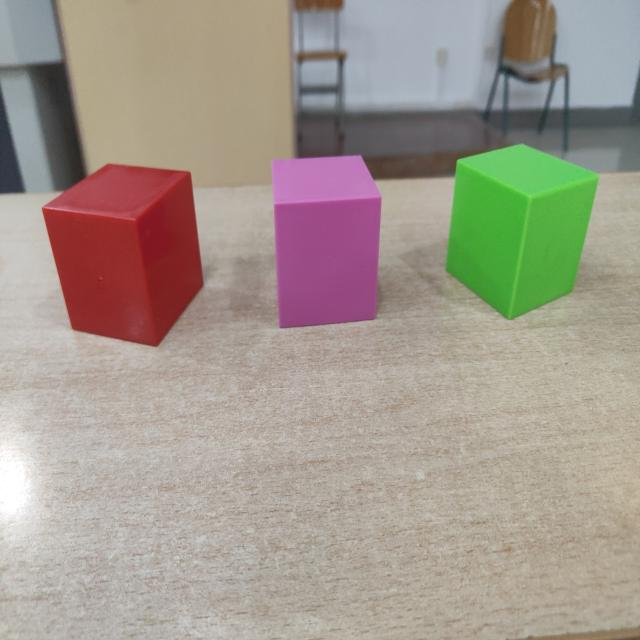green: (444, 145, 599, 322)
pink: (270, 155, 384, 331)
red: (41, 164, 206, 351)
